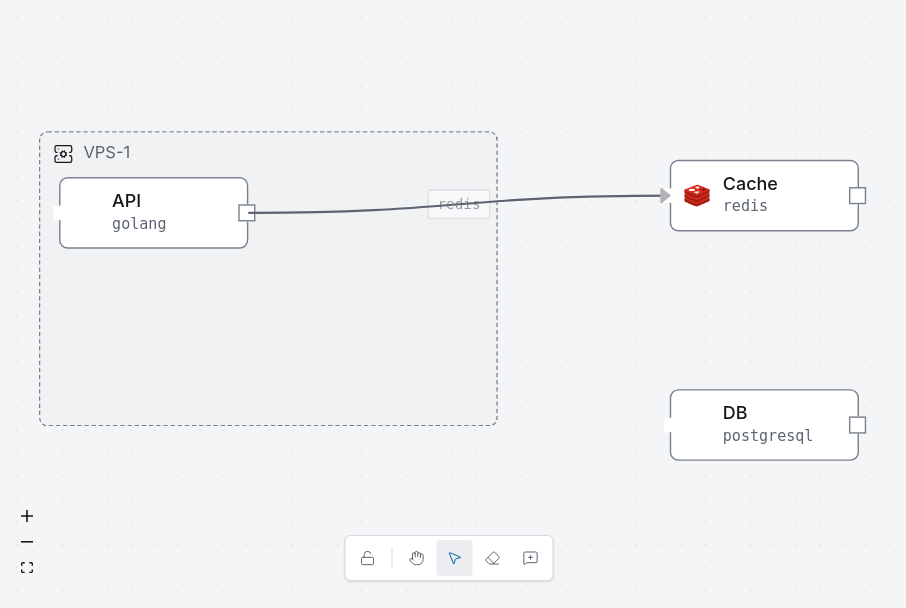
Test: the tool bar › names the tool and its key in a tooltip
Check: the element with class "react-flow__node" showing "VPS-1" is shown, box x1=39 y1=131 x2=498 y2=426
Hover over the button named "Eraser": (492, 558) x1=474 y1=540 x2=510 y2=576
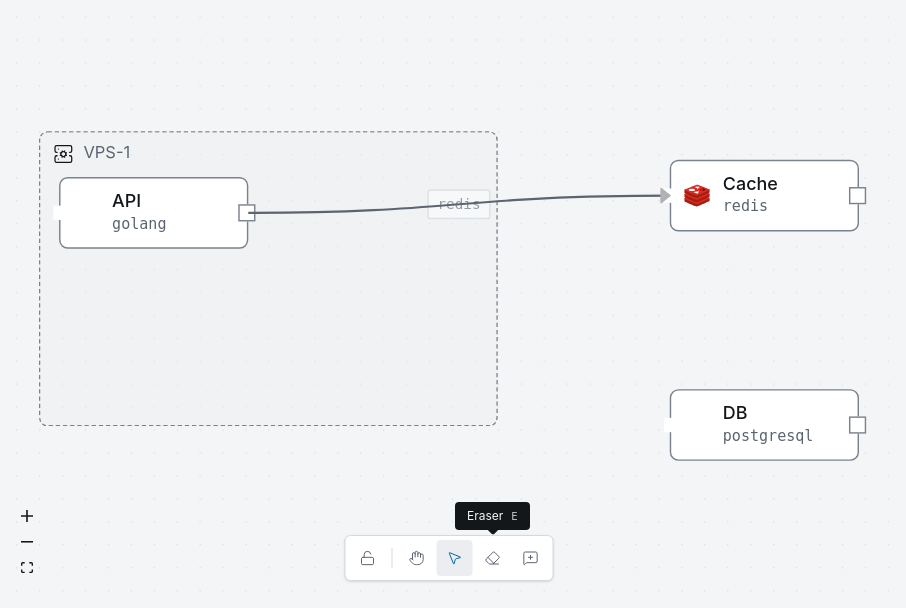
Check: the tooltip reads "Eraser E", box x1=455 y1=502 x2=530 y2=530
